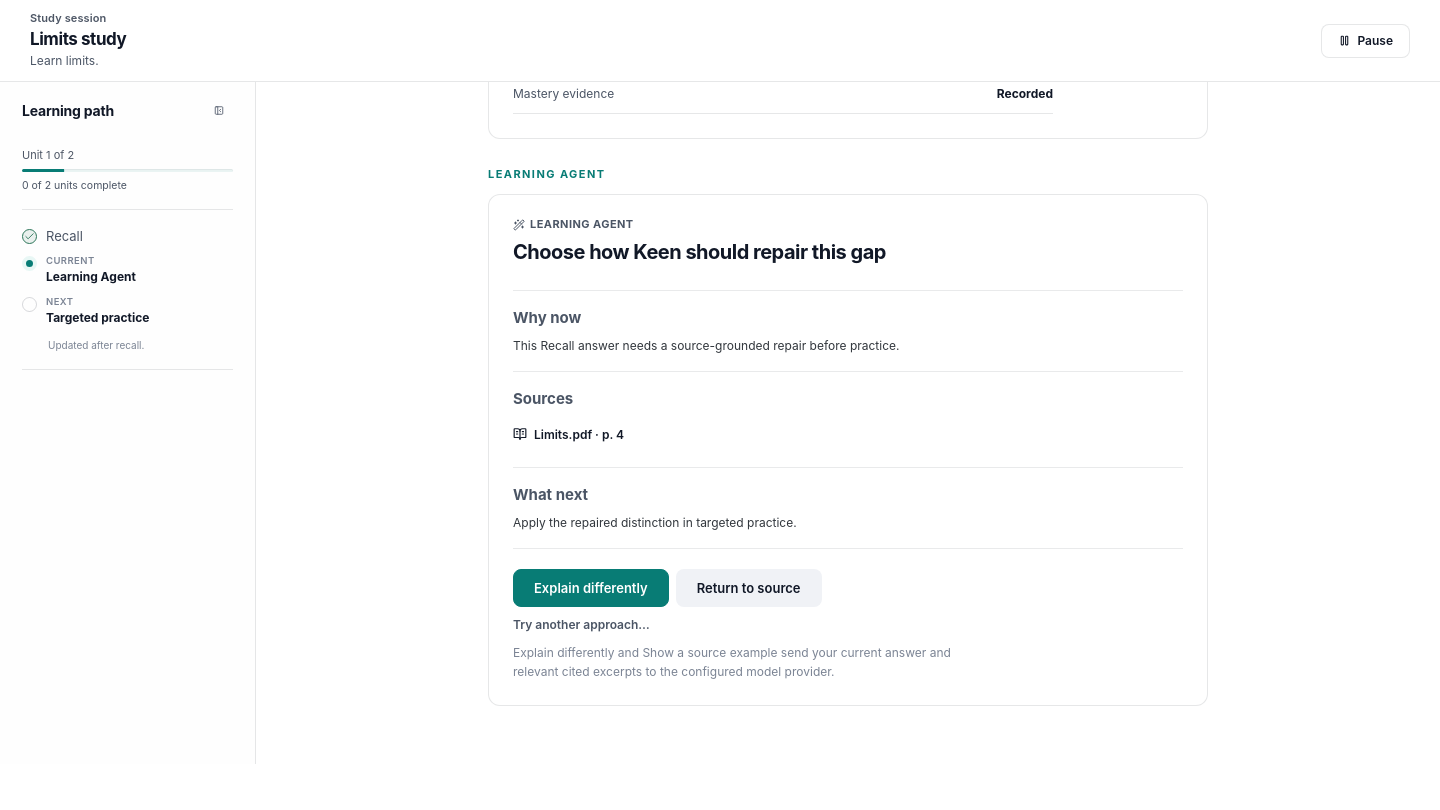
Test case: Deep Learn active recall › gates incorrect Recall behind the Learning Agent and hands Test me instead to the existing Practice flow
(page scrolled)
Expected: the heading "Choose how Keen should repair this gap" is shown, [513,240,886,264]
Expected: the text "Limits.pdf · p. 4" is shown, [534,427,624,442]
Click the button "Try another approach…".
click(581, 624)  # box [513,614,650,635]
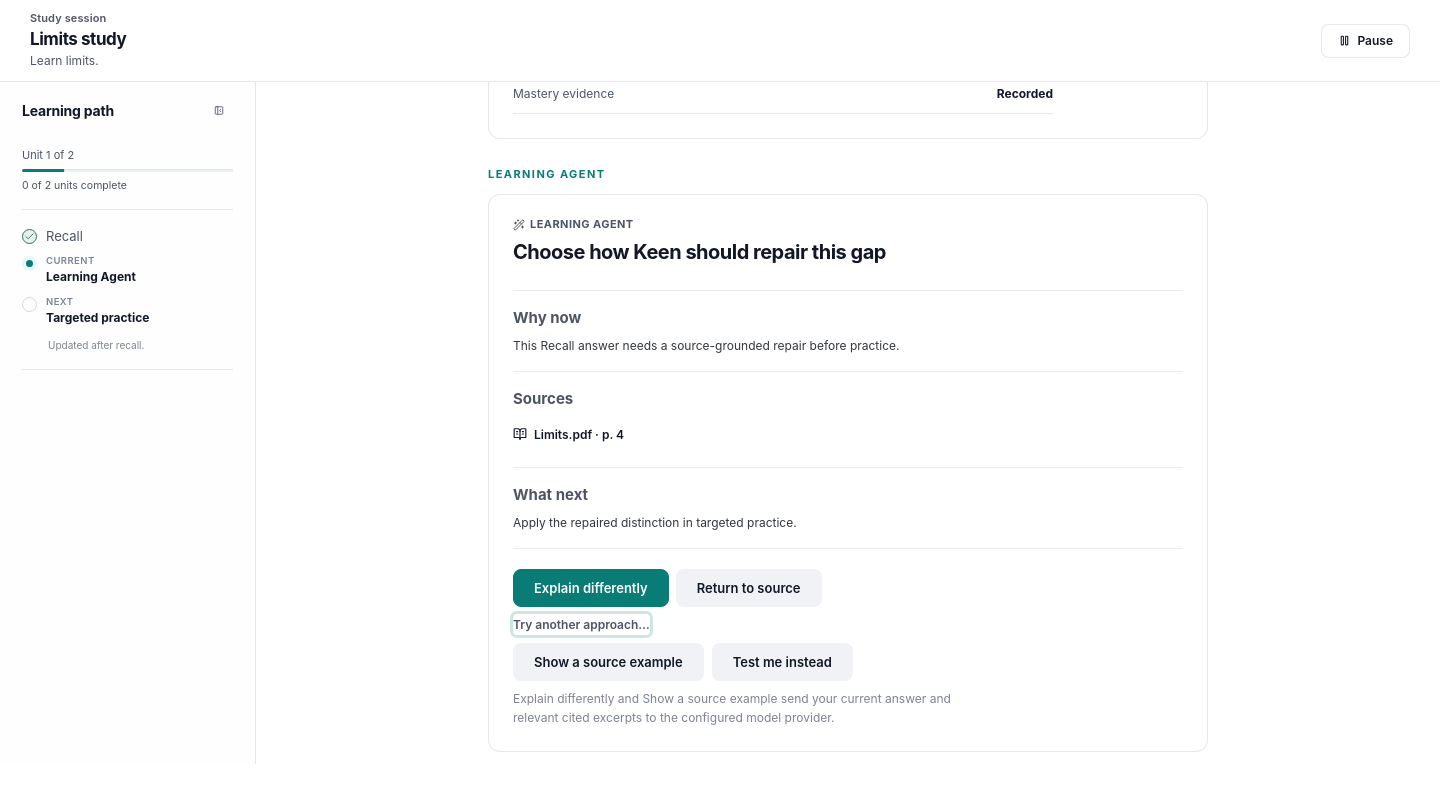
Click the button "Test me instead".
click(782, 662)  # box [712,643,853,681]
(page scrolled)
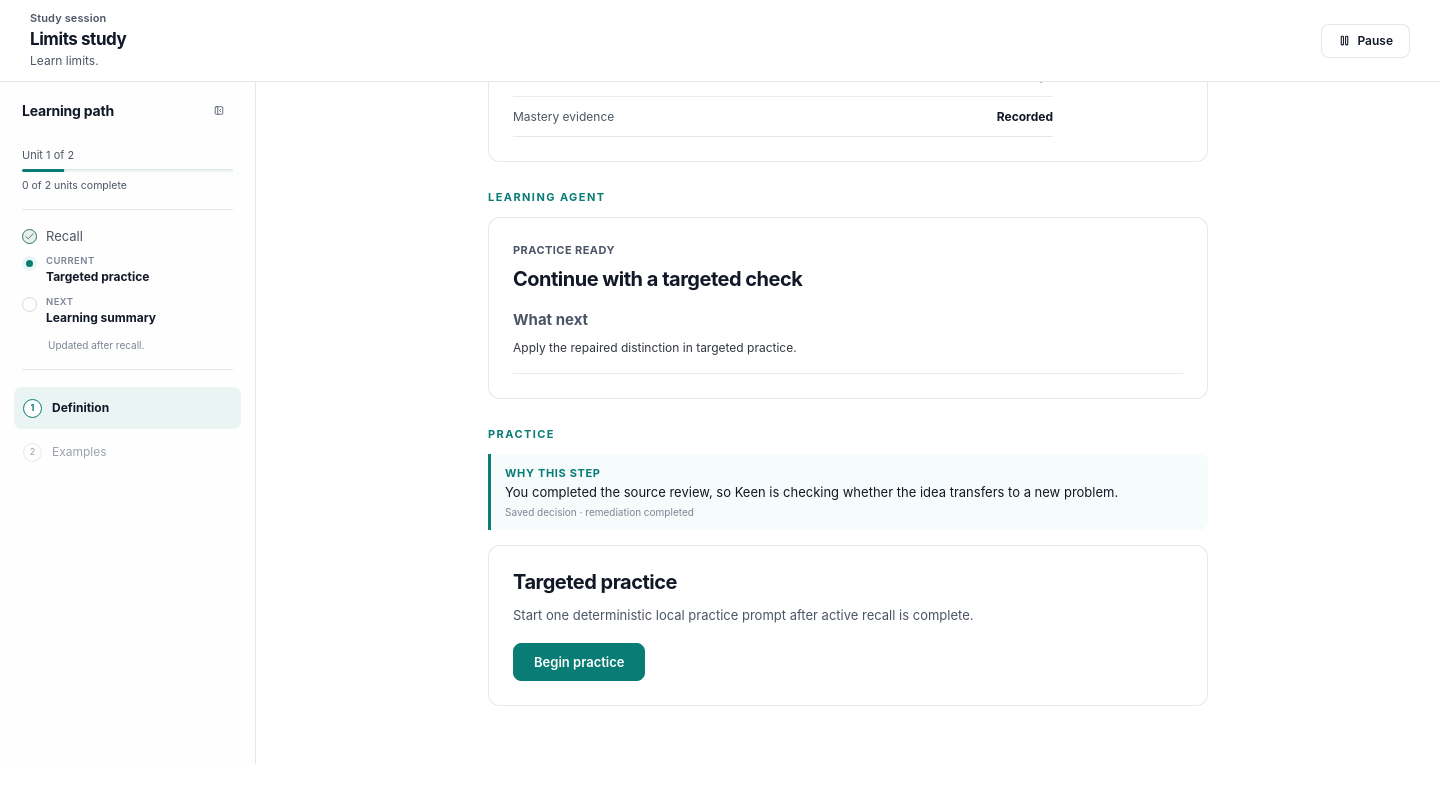
Result: the heading "Targeted practice" is shown at [513,570,677,594]
Result: the button "Begin practice" is shown at [513,643,646,681]
